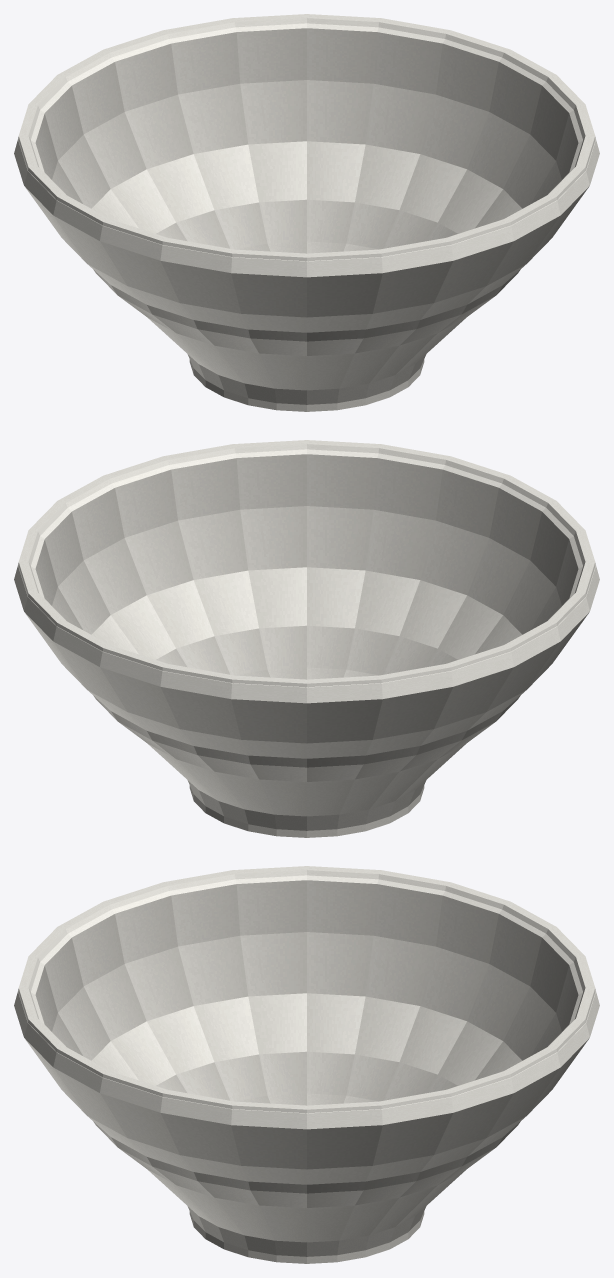
File: bowl.glb
3 renders of one model, top to bottom at view 1: azimuth 30°, elevation 25°; view 2: azimuth 150°, elevation 25°; view 3: azimuth 270°, elevation 25°, orthographic.
Parts seen in each view (by area): view 1: home_bowl; view 2: home_bowl; view 3: home_bowl.
Boxes of the visible parts, x1,y1,x2,y2 form: home_bowl: [14, 14, 599, 411]; home_bowl: [14, 440, 599, 837]; home_bowl: [14, 866, 599, 1263].
Size of the model in its own units: 0.15 by 0.065 by 0.15.
Materials: 1 (1 with a texture image).
